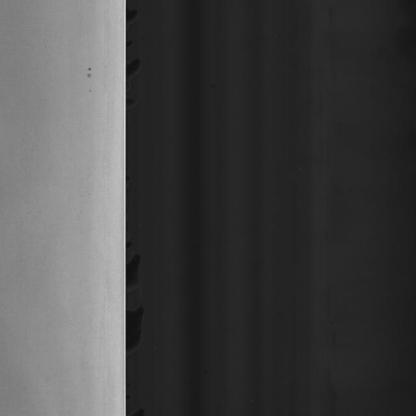inclusion: (84, 61, 95, 96)
